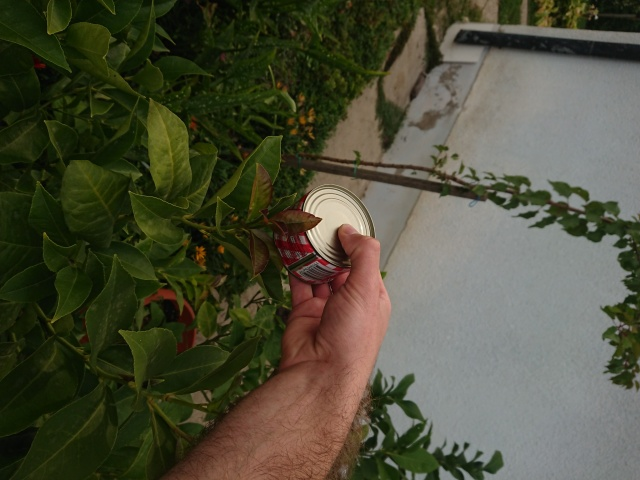Podravka Luncheon Meat 150g: (269, 181, 379, 289)
